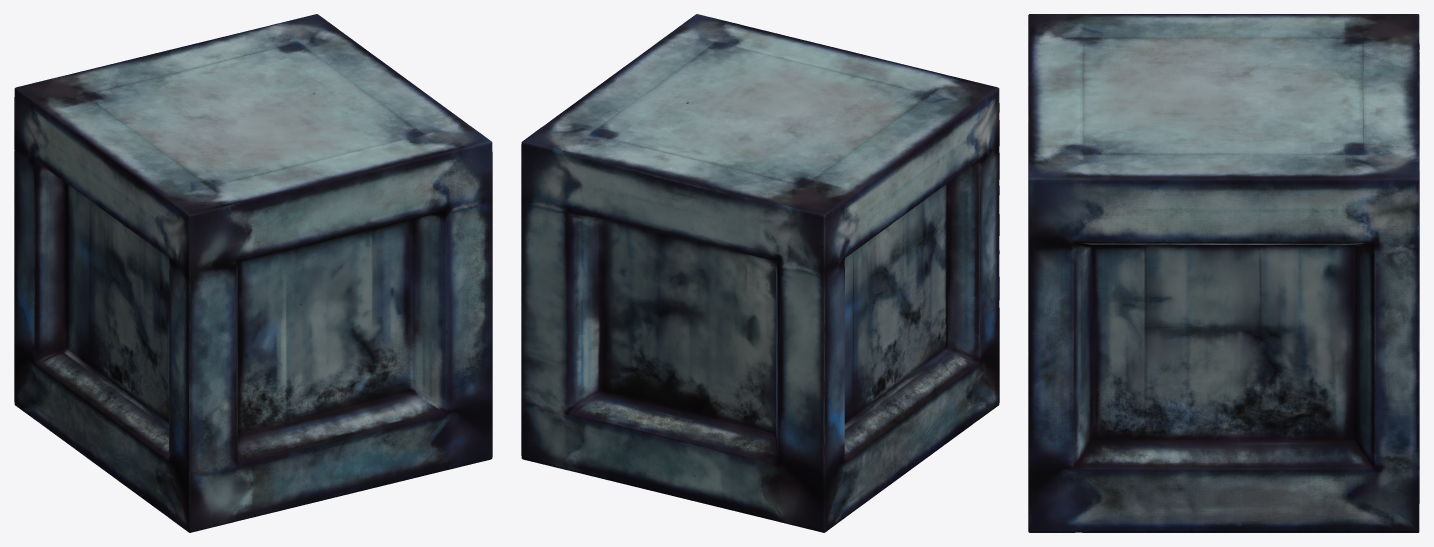
File: kostka.glb
3 views of the same model, side by side, from view 1: azimuth 30°, elevation 25°; view 2: azimuth 150°, elevation 25°; view 3: azimuth 270°, elevation 25° (orthographic). The views are drawn at different scales.
Parts seen in each view (by area): view 1: world; view 2: world; view 3: world.
Boxes of the visible parts, bbox=[...] form: world: bbox=[14, 14, 492, 532]; world: bbox=[521, 14, 999, 532]; world: bbox=[1028, 14, 1419, 532].
Size of the model in its own units: 1 by 0.9999 by 1.
1 material, 1 textured.
